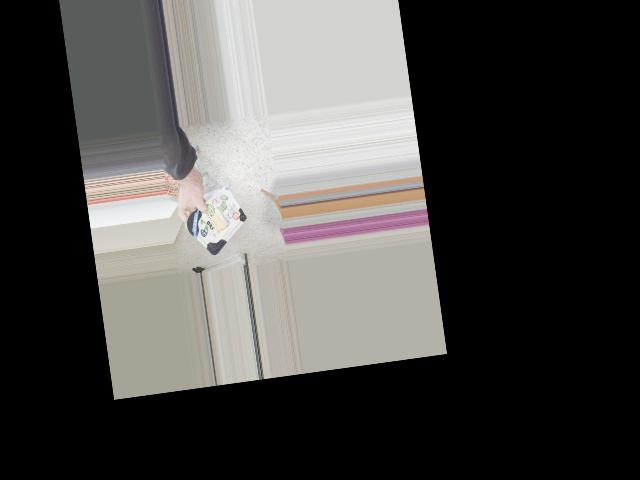cheese: (179, 187, 256, 257)
